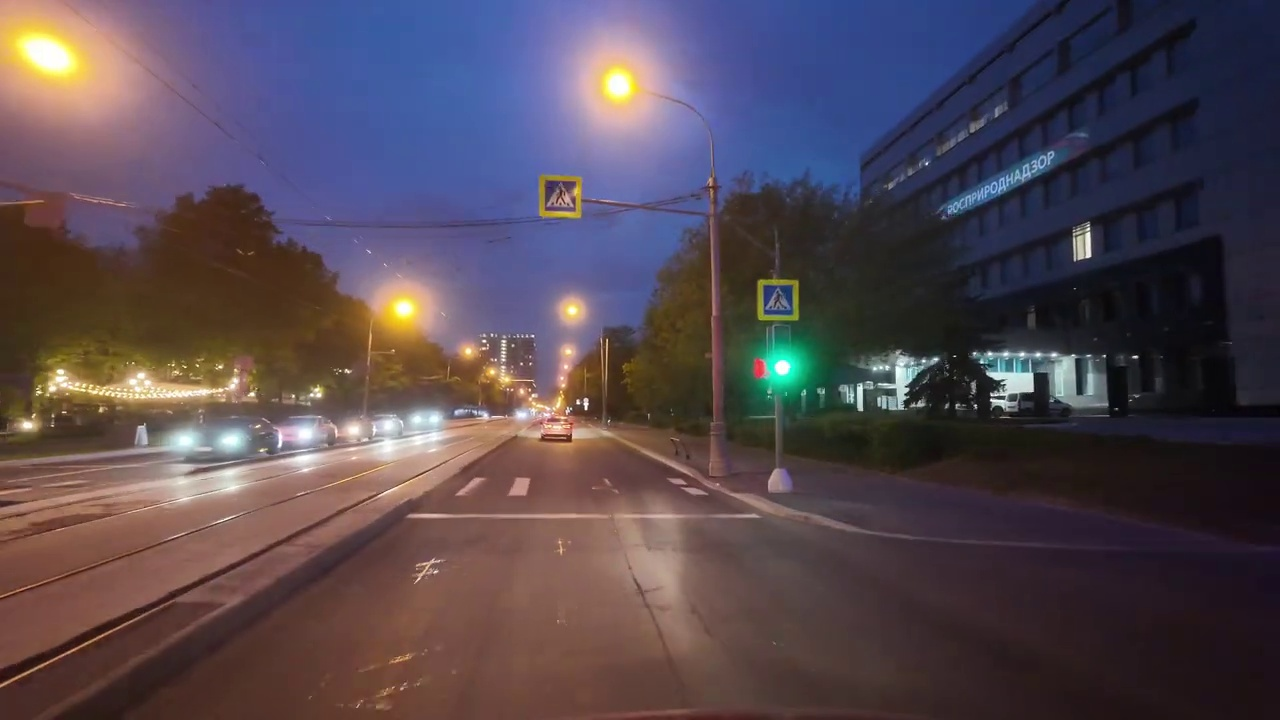acesa: (5, 24, 81, 90), (594, 63, 641, 109), (382, 292, 422, 331), (558, 295, 587, 324)
